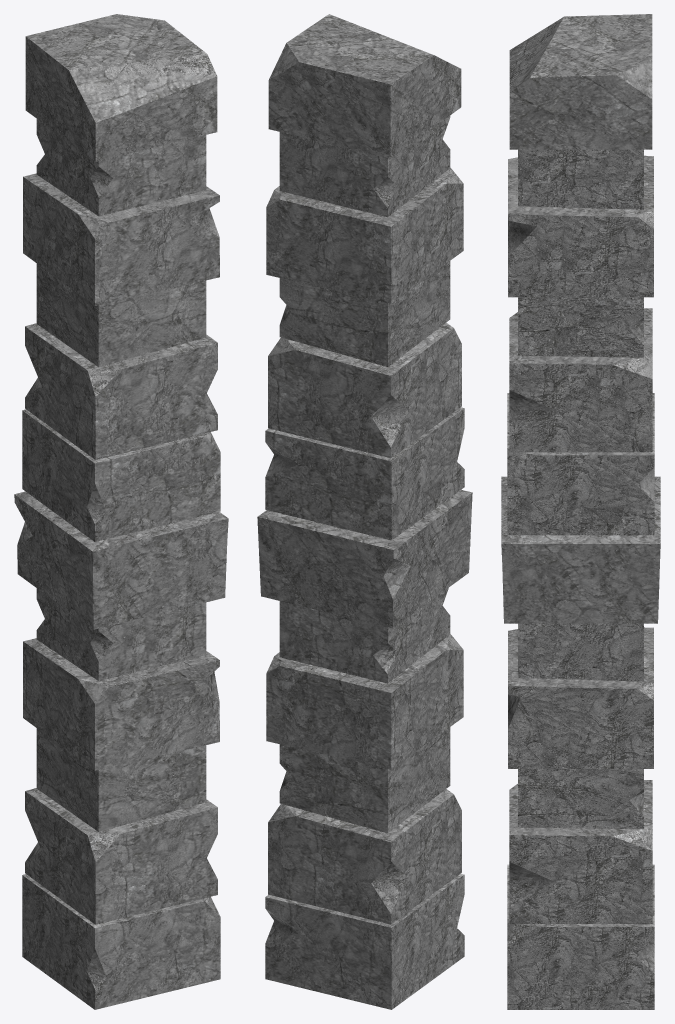
The model's file is materials_3_pillar_5.fbx.
3 views of the same model, side by side, from view 1: azimuth 30°, elevation 25°; view 2: azimuth 150°, elevation 25°; view 3: azimuth 270°, elevation 25° (orthographic).
Parts seen in each view (by area): view 1: materials_3_pillar_5; view 2: materials_3_pillar_5; view 3: materials_3_pillar_5.
Part boxes in pixels (x1,y1,x2,y2): materials_3_pillar_5: [14, 14, 228, 1009]; materials_3_pillar_5: [257, 14, 472, 1009]; materials_3_pillar_5: [501, 14, 660, 1009].
Size of the model in its own units: 105 by 681 by 105.
